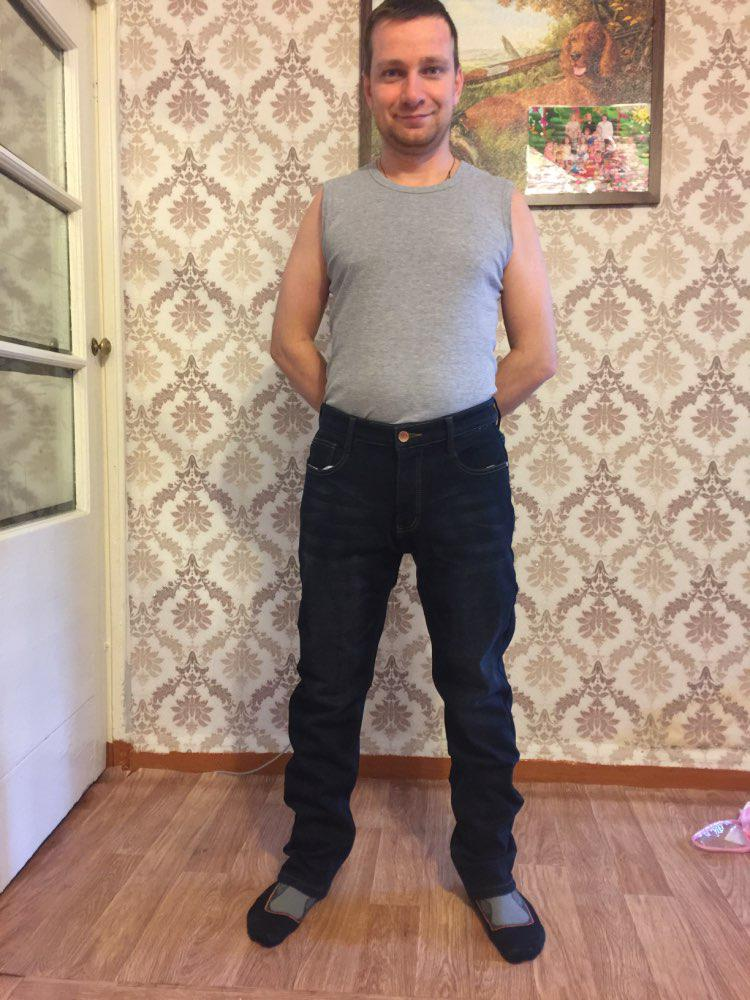jeans: (283, 399, 532, 912)
